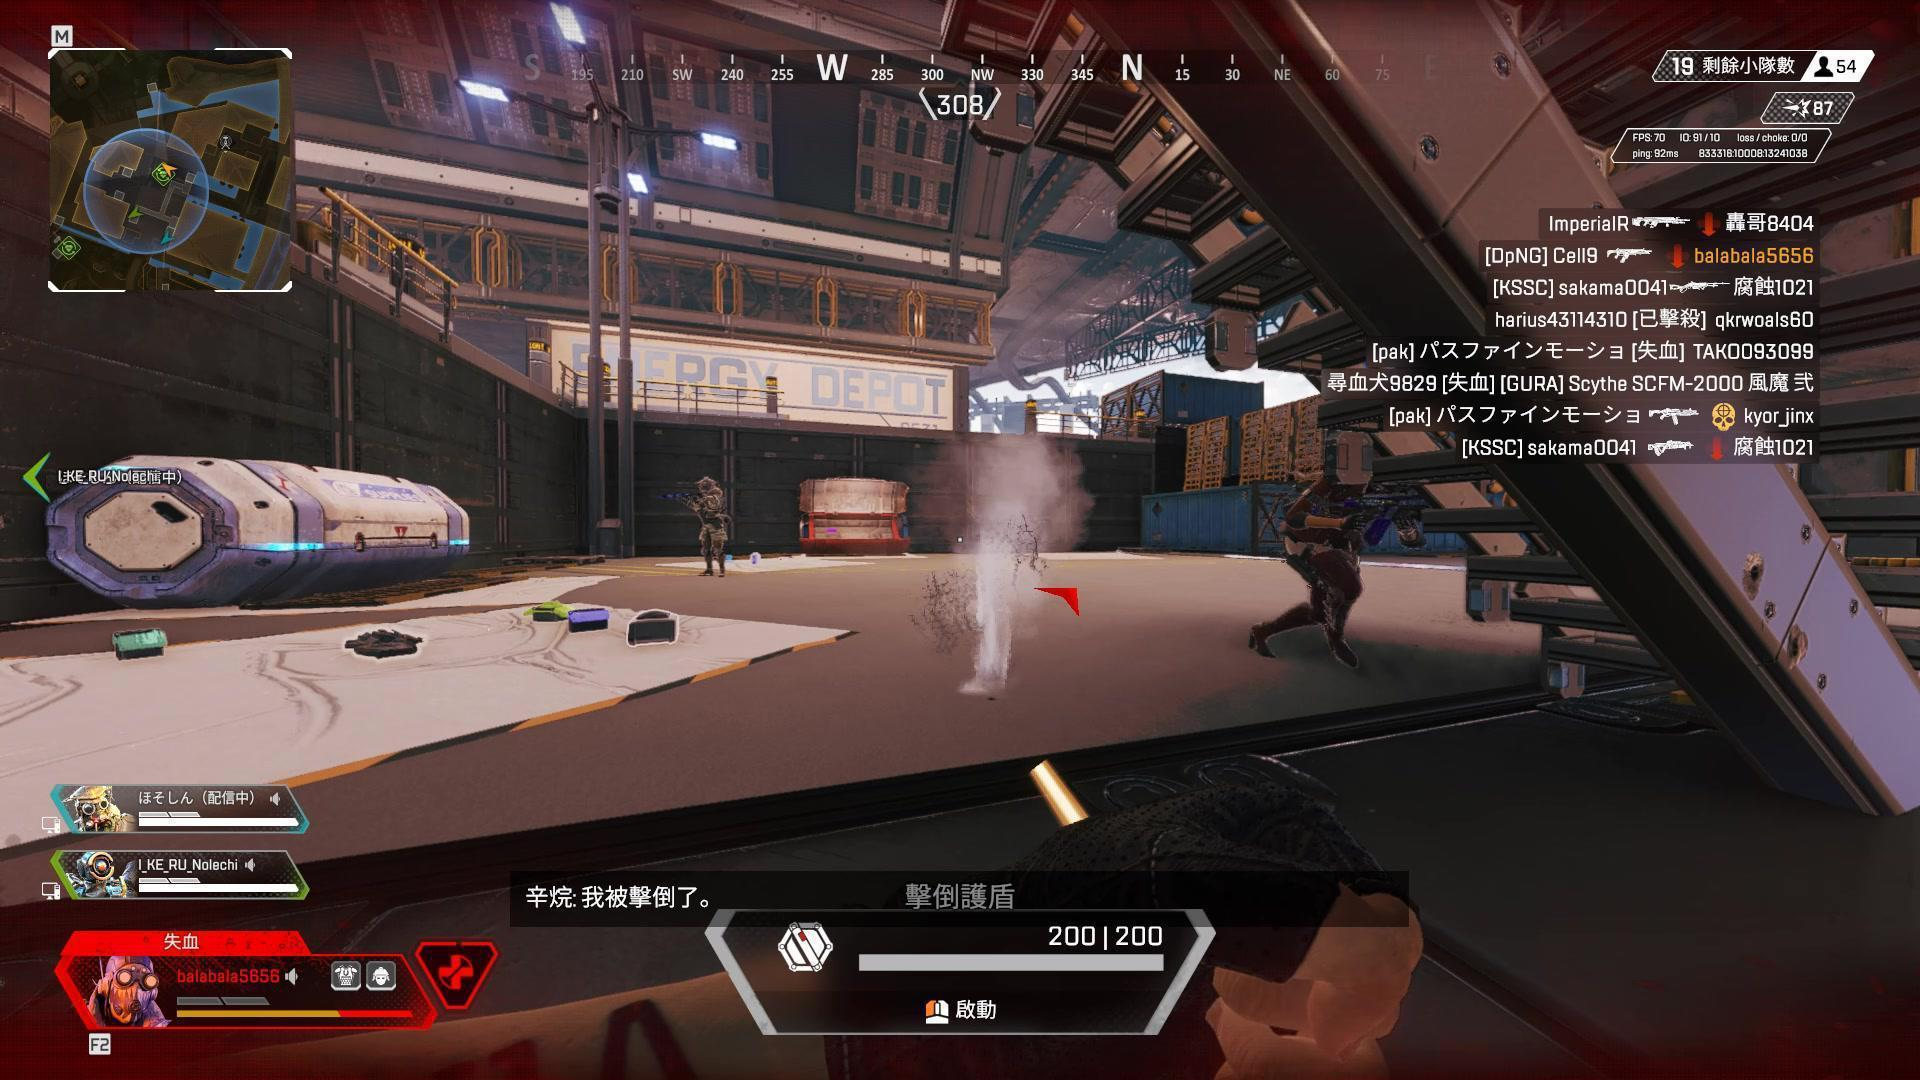avatar: (1274, 465, 1374, 673), (692, 474, 731, 581)
